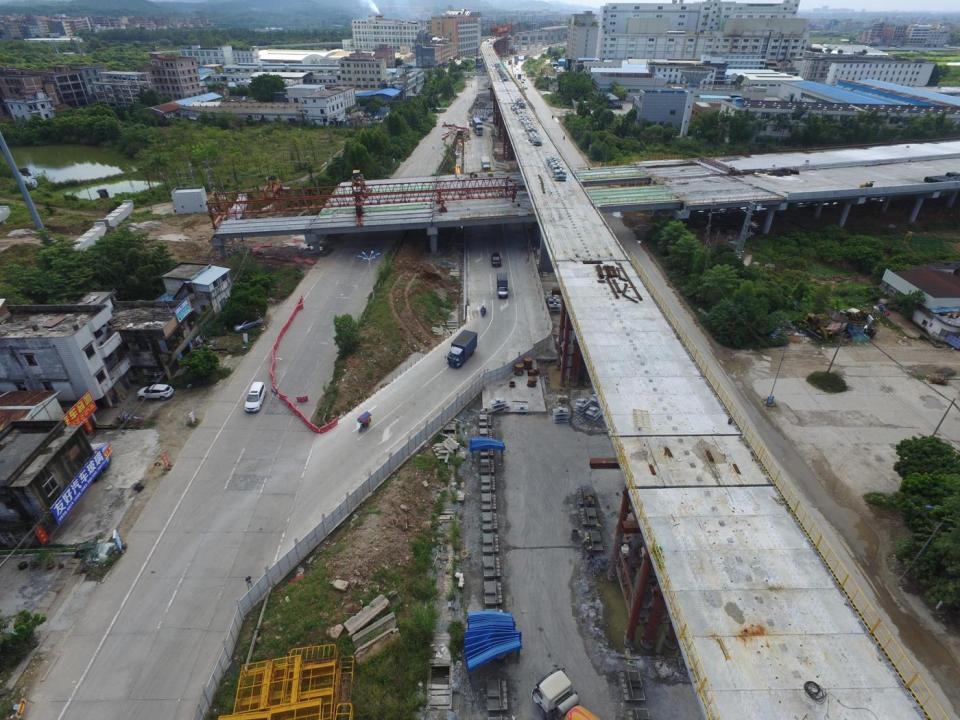car: (243, 381, 267, 414), (232, 315, 262, 334), (138, 384, 172, 400), (491, 252, 501, 268), (469, 121, 475, 127), (521, 80, 524, 83)
truck: (534, 669, 621, 720), (444, 330, 478, 368), (496, 272, 509, 299), (472, 117, 484, 136), (482, 156, 490, 172)
van: (525, 86, 528, 89)
